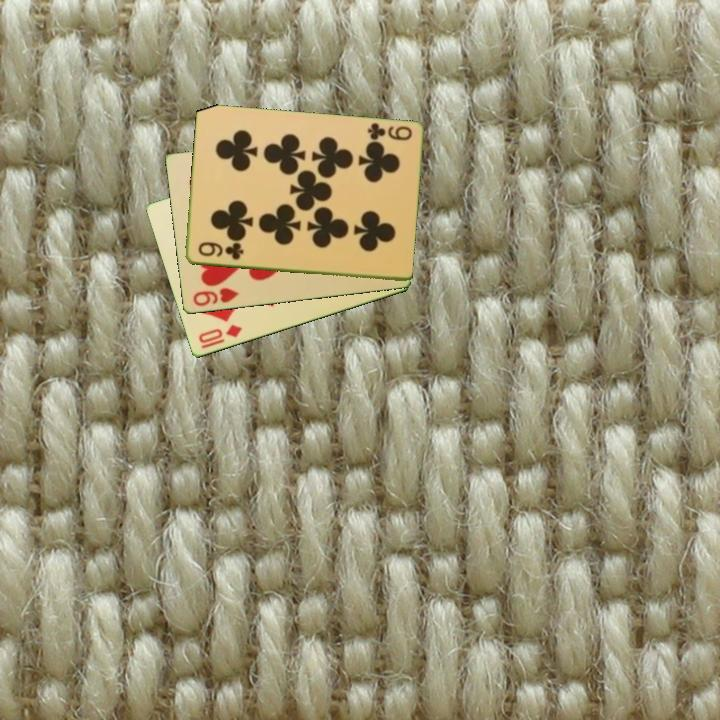10d: (195, 321, 245, 347)
9c: (363, 119, 414, 144), (194, 239, 246, 263)
9h: (189, 284, 241, 309)
